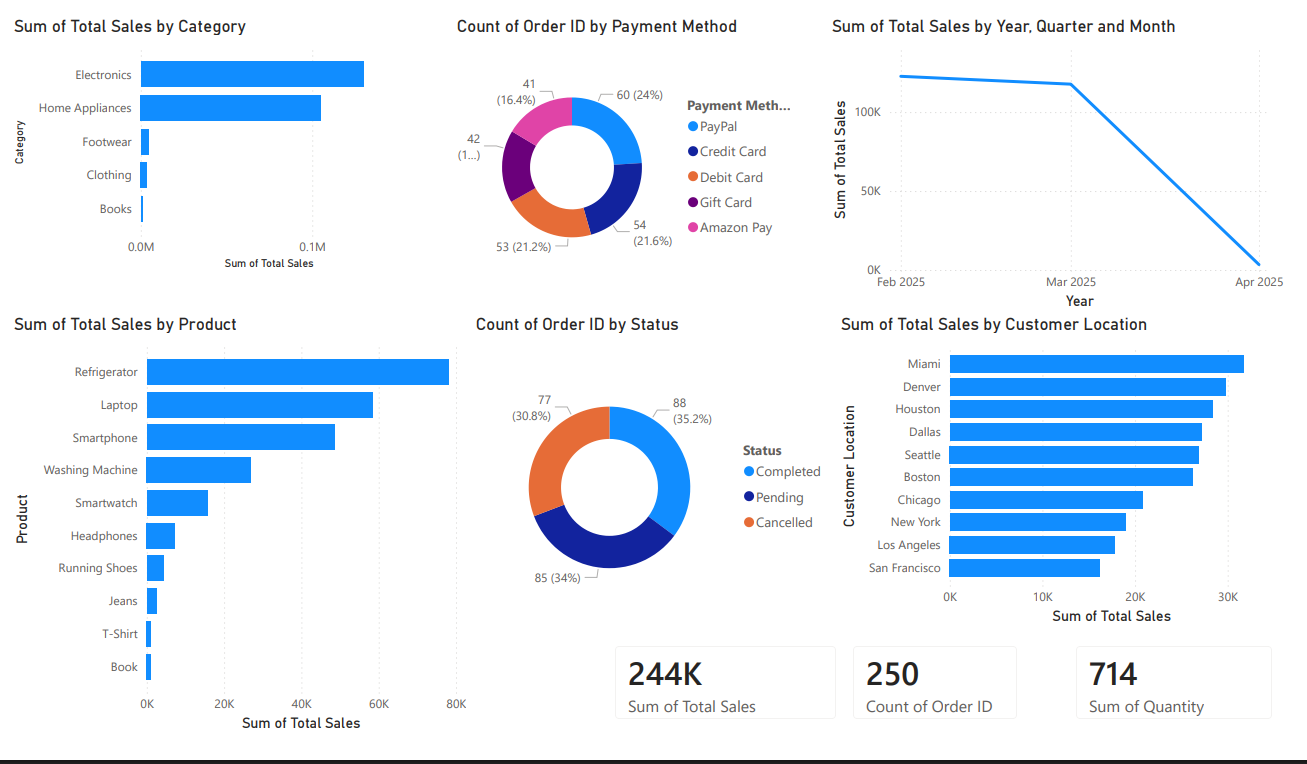

What the dashboard file says about the page in this screenshot:
{"tool":"powerbi","page":{"name":"Page 7","canvas":[1280,720],"ordinal":6},"visuals":[{"type":"clusteredBarChart","fields":{"Category":["amazon_sales_data 2025 (2).Category"],"Y":["Sum(amazon_sales_data 2025 (2).Total Sales)"]},"box":[0,0,407.5,259.3],"z":0},{"type":"lineChart","fields":{"Category":["amazon_sales_data 2025 (2).Date.Variation.Date Hierarchy.Year","amazon_sales_data 2025 (2).Date.Variation.Date Hierarchy.Quarter","amazon_sales_data 2025 (2).Date.Variation.Date Hierarchy.Month","amazon_sales_data 2025 (2).Date.Variation.Date Hierarchy.Day"],"Y":["Sum(amazon_sales_data 2025 (2).Total Sales)"]},"box":[817.8,0,462.4,297.8],"z":1000},{"type":"clusteredBarChart","fields":{"Category":["amazon_sales_data 2025 (2).Customer Location"],"Y":["Sum(amazon_sales_data 2025 (2).Total Sales)"]},"box":[827.4,297.8,452.8,315.6],"z":2000},{"type":"donutChart","fields":{"Category":["amazon_sales_data 2025 (2).Payment Method"],"Y":["CountNonNull(amazon_sales_data 2025 (2).Order ID)"]},"box":[443.2,0,349.9,284],"z":3000},{"type":"donutChart","fields":{"Category":["amazon_sales_data 2025 (2).Status"],"Y":["CountNonNull(amazon_sales_data 2025 (2).Order ID)"]},"box":[462.4,297.8,365,328],"z":4000},{"type":"clusteredBarChart","fields":{"Category":["amazon_sales_data 2025 (2).Product"],"Y":["Sum(amazon_sales_data 2025 (2).Total Sales)"]},"box":[0,297.8,462.4,422.6],"z":5000},{"type":"cardVisual","fields":{"Data":["Sum(amazon_sales_data 2025 (2).Total Sales)"]},"box":[588.7,613.4,255.2,107],"z":6000},{"type":"cardVisual","fields":{"Data":["CountNonNull(amazon_sales_data 2025 (2).Order ID)"]},"box":[827.4,613.4,199,107],"z":7000},{"type":"cardVisual","fields":{"Data":["Sum(amazon_sales_data 2025 (2).Quantity)"]},"box":[1049.7,613.4,230.5,107],"z":8000}]}

Visuals, with their boxes on the page's 1280x720 design canvas (x1, y1, x2, y2). These are canvas units, not pixel positions in the 1307x764 screenshot, which may show the page scaled, cropped or inside an application window:
clusteredBarChart - amazon_sales_data 2025 (2).Category x Sum(amazon_sales_data 2025 (2).Total Sales): box=[0, 0, 408, 259]
lineChart - amazon_sales_data 2025 (2).Date.Variation.Date Hierarchy.Year x amazon_sales_data 2025 (2).Date.Variation.Date Hierarchy.Quarter: box=[818, 0, 1280, 298]
clusteredBarChart - amazon_sales_data 2025 (2).Customer Location x Sum(amazon_sales_data 2025 (2).Total Sales): box=[827, 298, 1280, 613]
donutChart - amazon_sales_data 2025 (2).Payment Method x CountNonNull(amazon_sales_data 2025 (2).Order ID): box=[443, 0, 793, 284]
donutChart - amazon_sales_data 2025 (2).Status x CountNonNull(amazon_sales_data 2025 (2).Order ID): box=[462, 298, 827, 626]
clusteredBarChart - amazon_sales_data 2025 (2).Product x Sum(amazon_sales_data 2025 (2).Total Sales): box=[0, 298, 462, 720]
cardVisual - Sum(amazon_sales_data 2025 (2).Total Sales): box=[589, 613, 844, 720]
cardVisual - CountNonNull(amazon_sales_data 2025 (2).Order ID): box=[827, 613, 1026, 720]
cardVisual - Sum(amazon_sales_data 2025 (2).Quantity): box=[1050, 613, 1280, 720]
